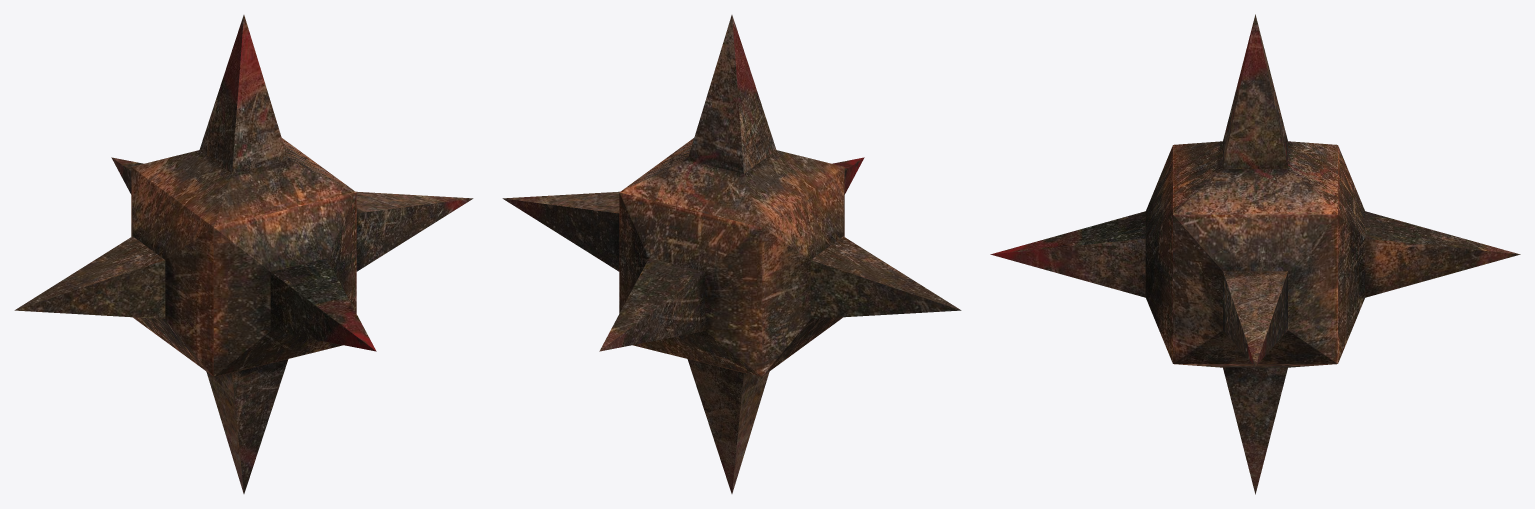
The model's file is pinchitos.fbx.
3 renders of one model, left to right at view 1: azimuth 30°, elevation 25°; view 2: azimuth 150°, elevation 25°; view 3: azimuth 270°, elevation 25°, orthographic.
Visible parts, largest first — view 1: pinchos; view 2: pinchos; view 3: pinchos.
Boxes of the visible parts, x1,y1,x2,y2 form: pinchos: (14,15,473,493); pinchos: (502,15,961,493); pinchos: (990,14,1520,494).
Bounding box in the file's own units: 1172 × 1172 × 1172.
1 material, 1 textured.
